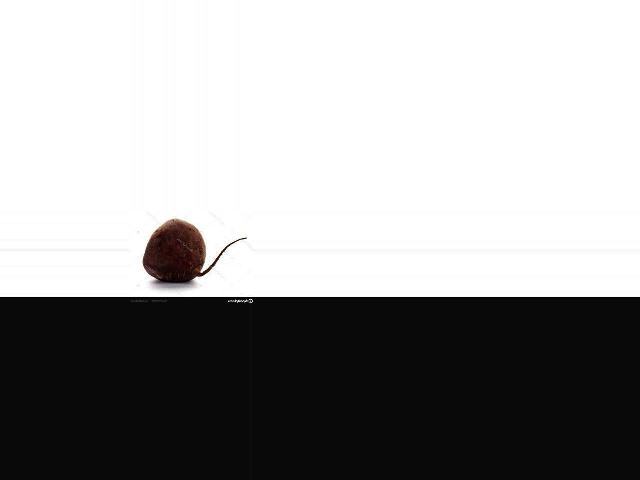beet: (142, 220, 246, 282)
